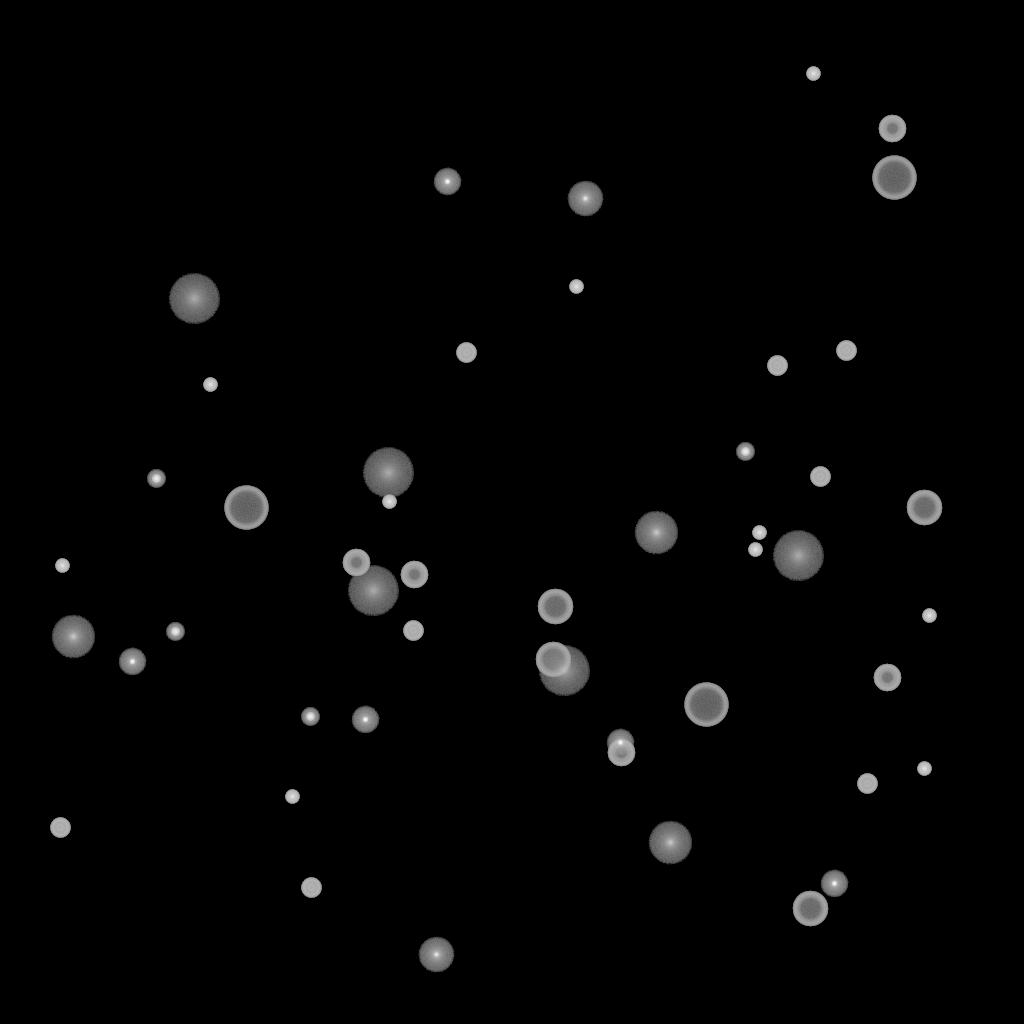depth:-10: (351, 706, 379, 734), (606, 729, 634, 757), (118, 648, 146, 676), (820, 870, 848, 898), (433, 168, 461, 196)
depth:-20: (147, 470, 165, 488), (736, 443, 754, 461), (166, 623, 184, 641), (301, 708, 319, 726)
depth:-30: (917, 762, 931, 776), (285, 790, 299, 804), (55, 559, 69, 573), (382, 495, 396, 509), (752, 526, 766, 540), (203, 378, 217, 392), (748, 543, 762, 557), (806, 67, 820, 81), (922, 609, 936, 623), (569, 280, 583, 294)
depth:-40: (836, 341, 856, 361), (767, 356, 787, 376), (403, 621, 423, 641), (857, 774, 877, 794), (301, 878, 321, 898), (456, 343, 476, 363), (50, 818, 70, 838), (810, 467, 830, 487)
depth:-50: (342, 549, 370, 577), (607, 739, 635, 767), (878, 115, 906, 143), (873, 664, 901, 692), (400, 561, 428, 589)
depth:-60: (792, 891, 828, 927), (535, 642, 571, 678), (537, 589, 573, 625), (906, 490, 942, 526)
depth:-70: (224, 486, 268, 530), (872, 156, 916, 200), (684, 683, 728, 727)
depth:0: (418, 937, 454, 973), (567, 181, 603, 217)
depth:10: (648, 821, 692, 865), (634, 511, 678, 555), (51, 615, 95, 659)
depth:20: (347, 566, 399, 616), (362, 448, 414, 498), (168, 274, 220, 324), (772, 531, 824, 581), (538, 646, 590, 696)
